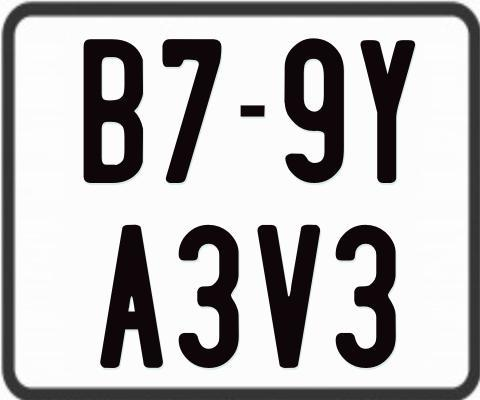3: (333, 223, 397, 370), (177, 223, 238, 372)
7: (159, 39, 219, 183)
9: (281, 36, 341, 184)
A: (99, 225, 167, 372)
B: (82, 38, 144, 185)
V: (258, 223, 321, 370)
Y: (358, 39, 414, 185)
